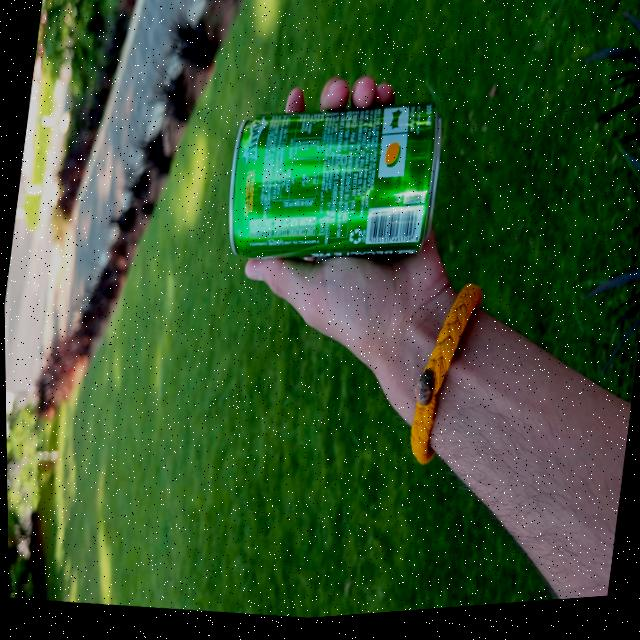Sprite: (218, 87, 444, 283)
